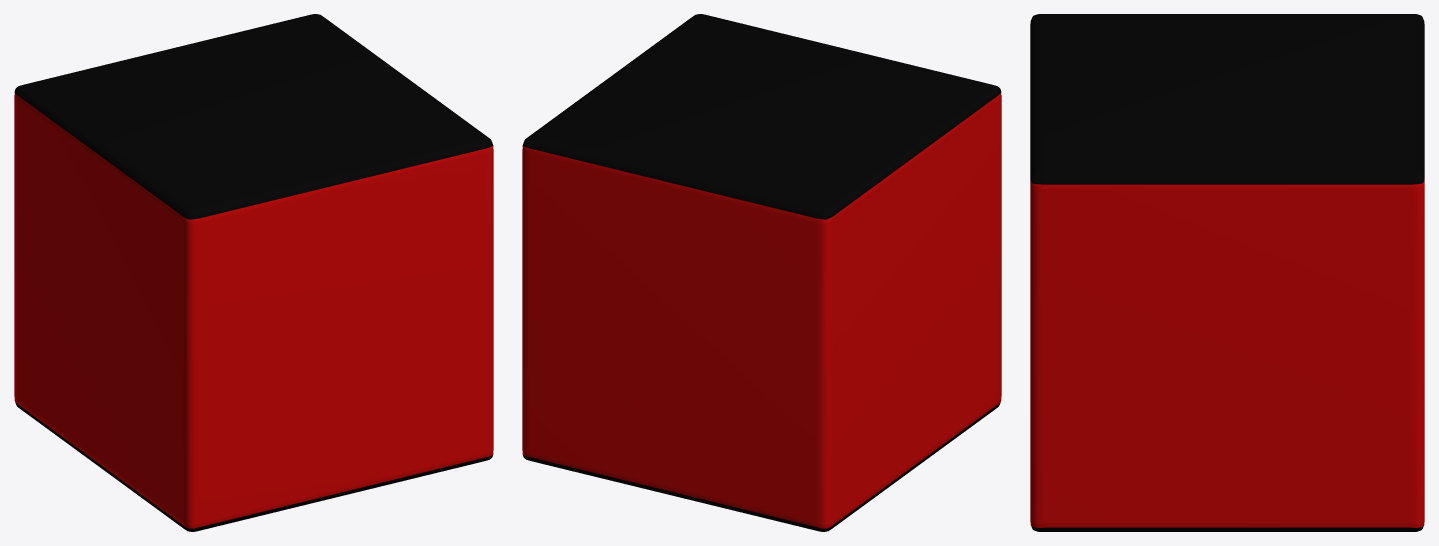
Rendered from cubeBevel.fbx.
The picture shows the model from 3 angles, left to right: view 1: azimuth 30°, elevation 25°; view 2: azimuth 150°, elevation 25°; view 3: azimuth 270°, elevation 25°; orthographic projection. The views are drawn at different scales.
Parts seen in each view (by area): view 1: cubeBevel; view 2: cubeBevel; view 3: cubeBevel.
Part boxes in pixels (<box>): cubeBevel: <box>14,14,493,531</box>; cubeBevel: <box>522,14,1001,531</box>; cubeBevel: <box>1030,14,1424,531</box>.
Bounding box in the file's own units: 200 × 200 × 200.
